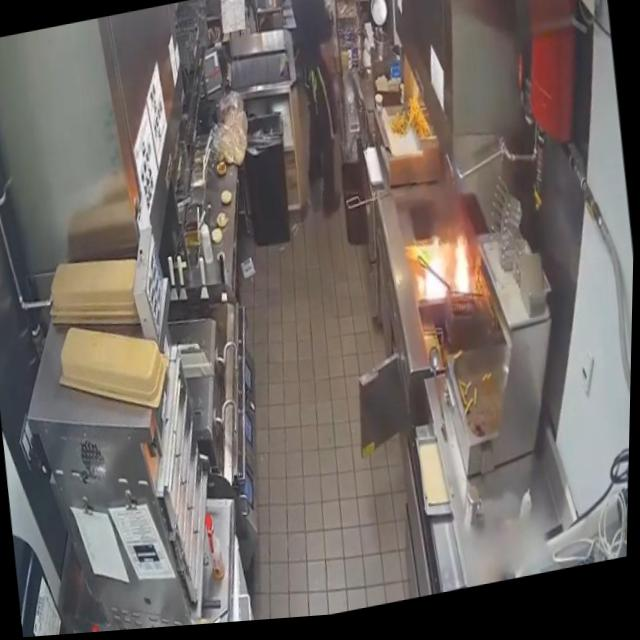fire: (414, 229, 483, 312)
